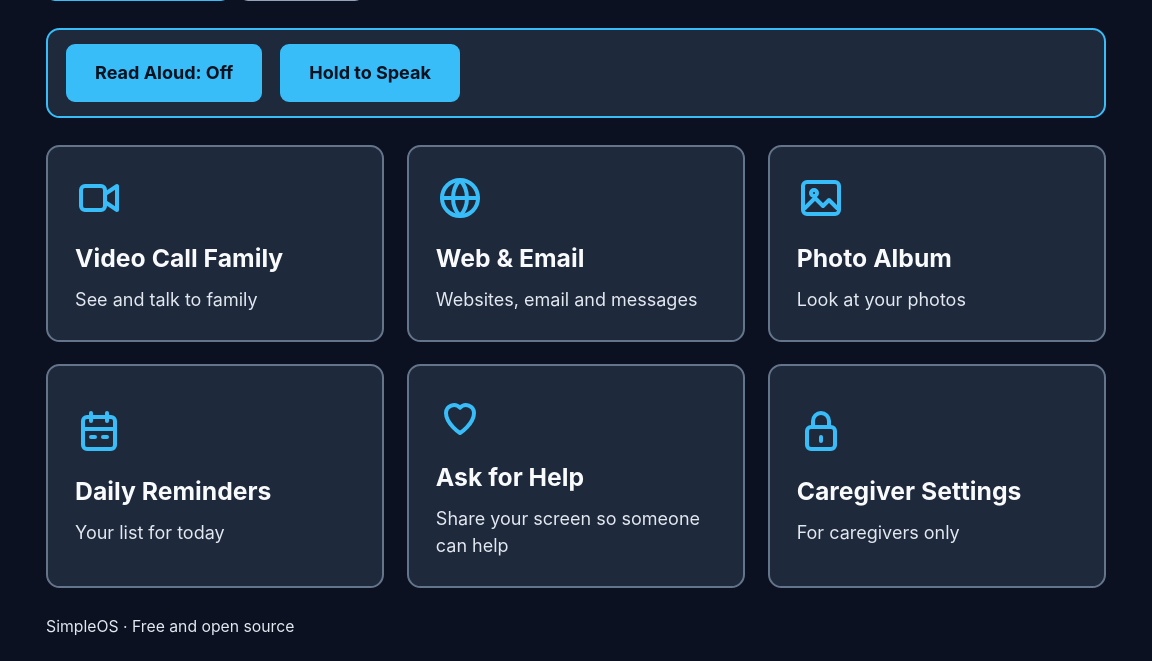
caregiver quick check › shows the quick check inside PIN-gated Caregiver Settings
(page scrolled)
Click the button "Caregiver Settings For caregivers only".
click(937, 476)  # box [768,364,1106,588]
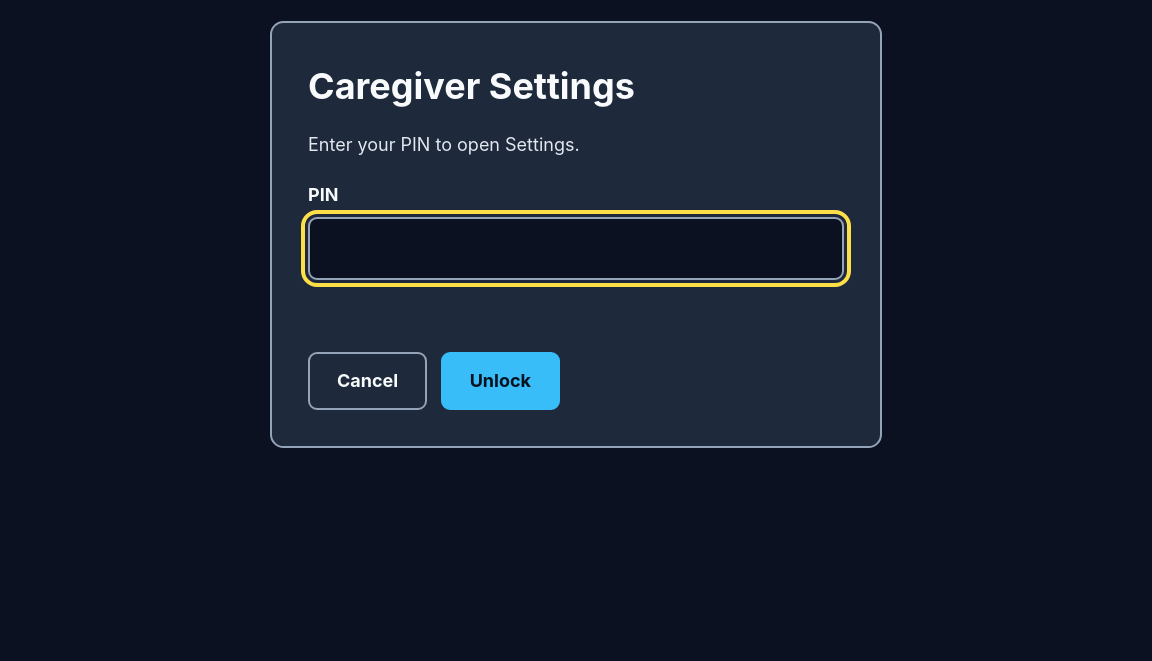
Type "1234" into the password field labelled "PIN".
click(576, 248); type("1234")  # box [308,217,844,280]
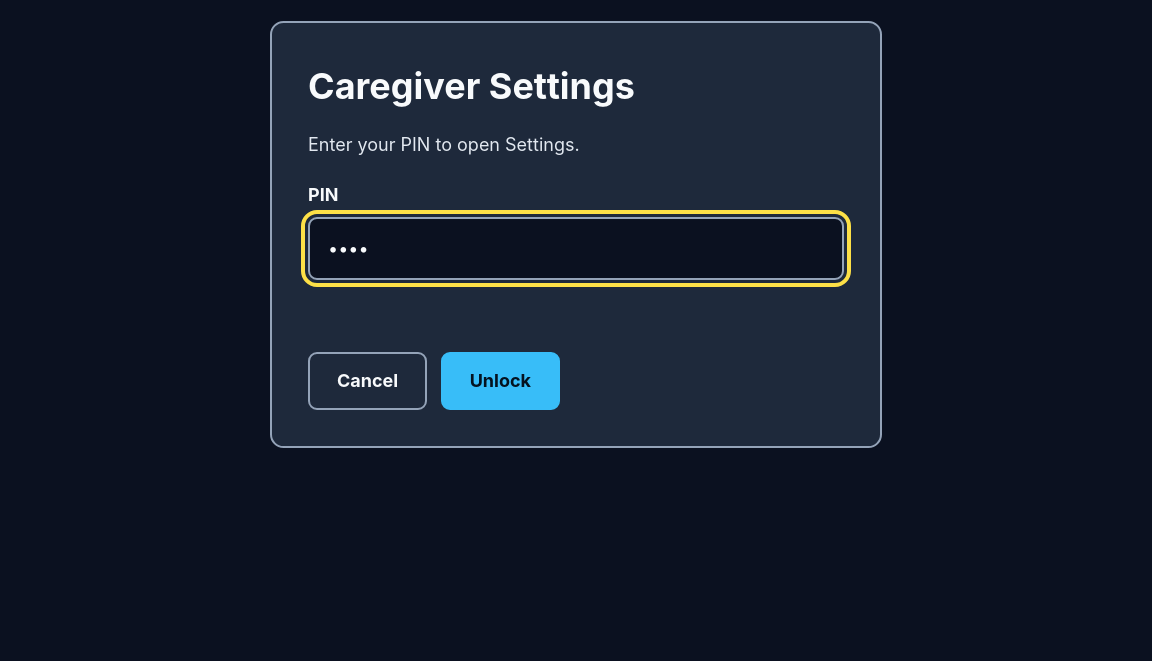
Click the button with aria-label "Unlock Caregiver Settings".
click(500, 381)  # box [441,352,560,410]
(page scrolled)
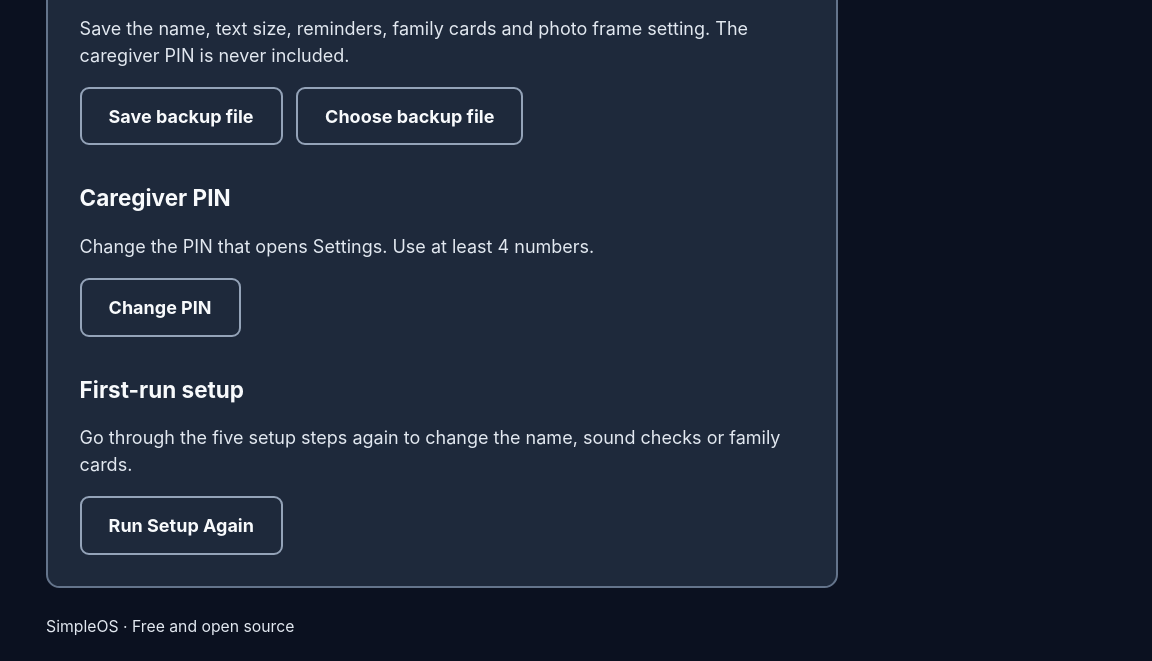
Expected: the button "Change PIN" is shown, [80,278,241,337]
